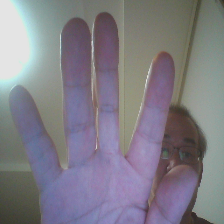hand: (8, 12, 195, 223)
